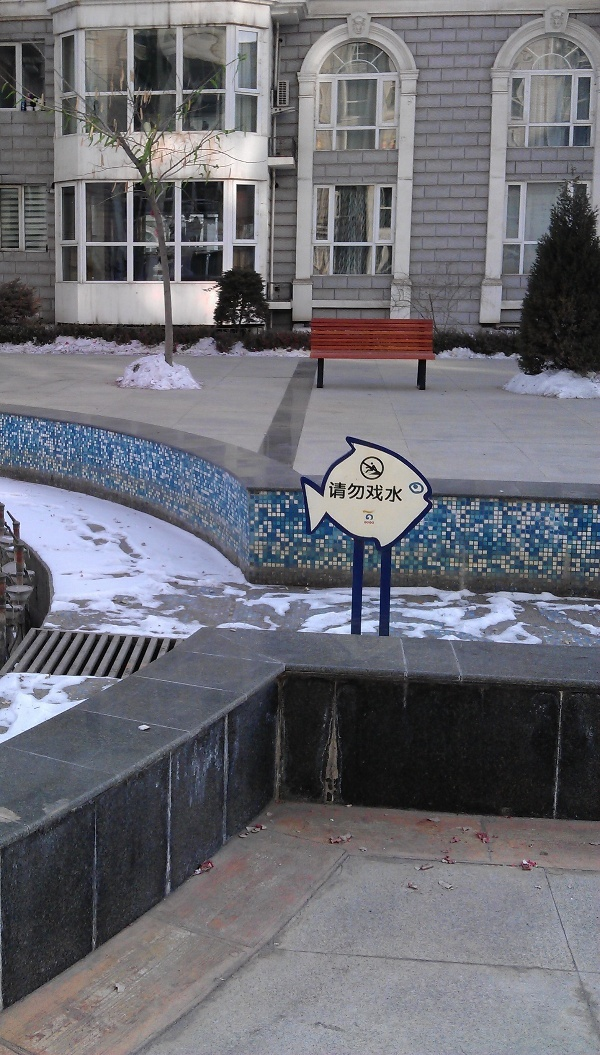text: (337, 480, 352, 505), (353, 480, 368, 505), (369, 480, 384, 505), (385, 480, 400, 505), (330, 480, 336, 505), (401, 480, 404, 505)
